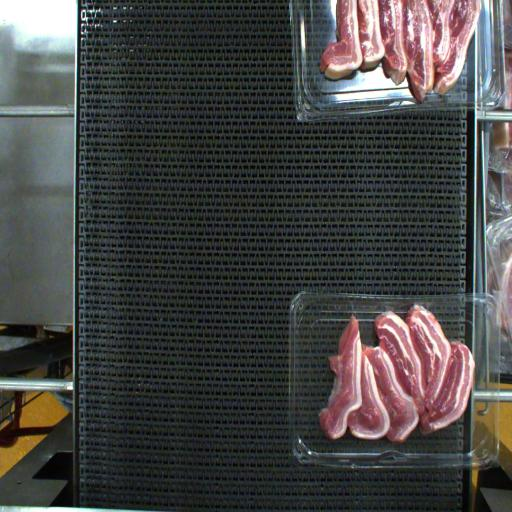packaging-error: (348, 294, 442, 326)
